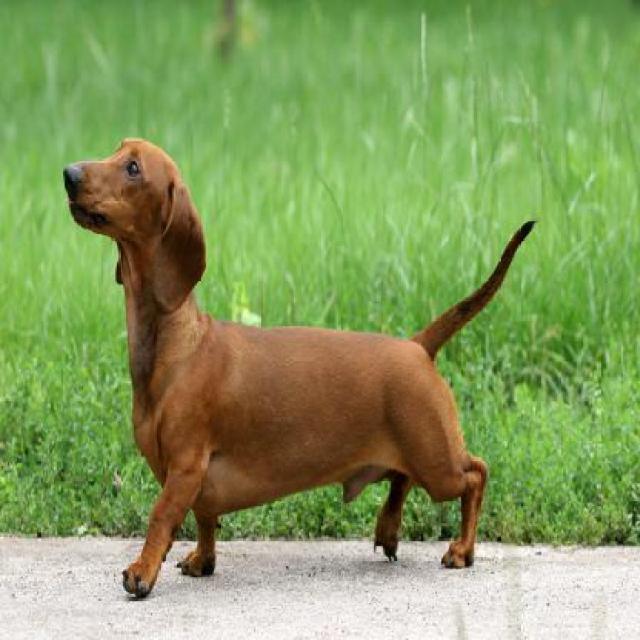Dog: (63, 130, 542, 598)
